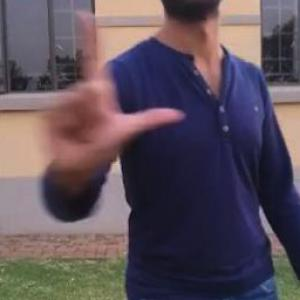land_hand: (45, 3, 188, 177)
